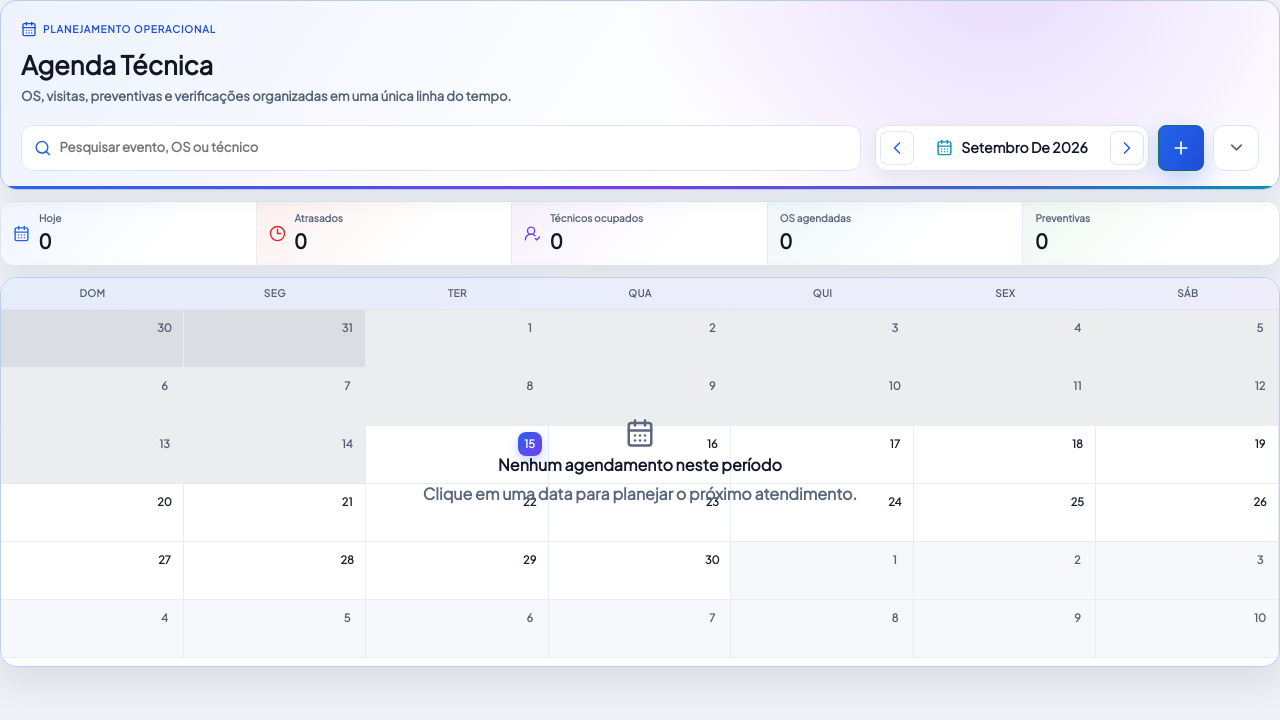
Test: TechnicalCalendarPage (fluxos) › navega entre meses e recarrega o intervalo
Click the button named "Próximo mês" at [1127, 148], box [1110, 131, 1144, 165]
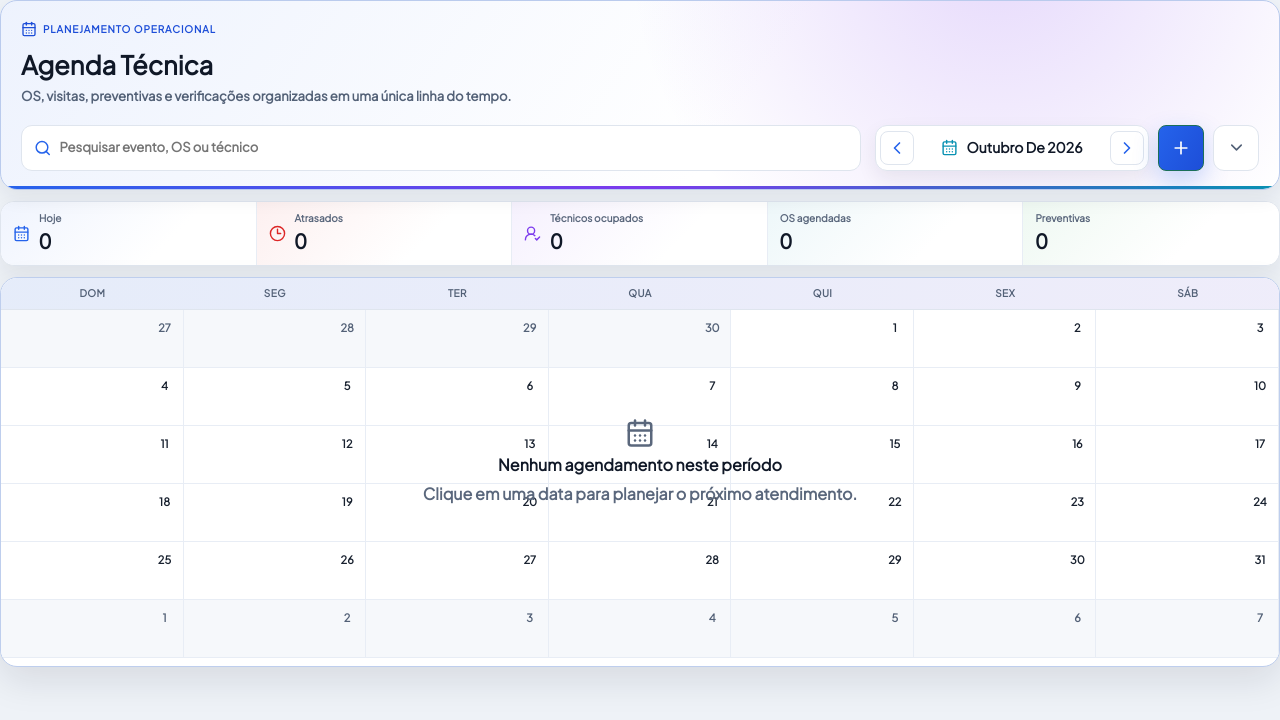
Now the text "outubro de 2026" is shown, box [966, 137, 1083, 158]
Click the button named "Mês anterior" at [897, 148], box [880, 131, 914, 165]
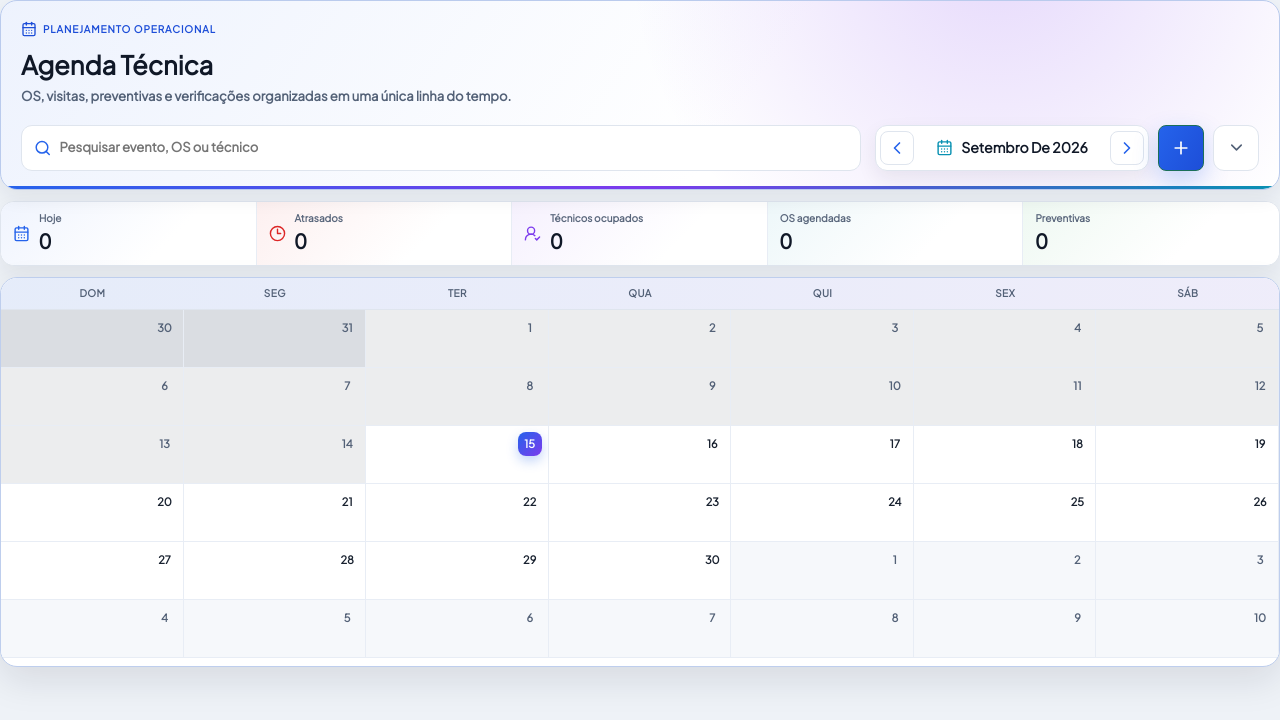
Click the button named "Mês anterior" at [897, 148], box [880, 131, 914, 165]
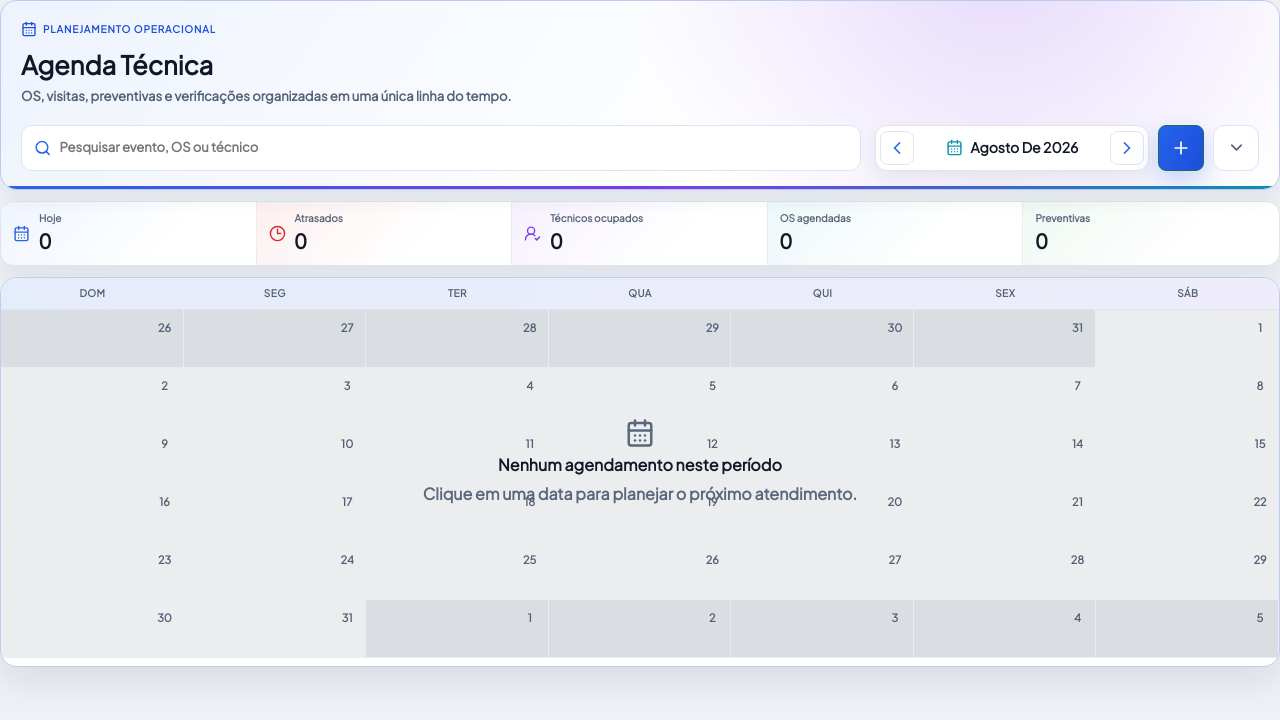
Now the text "agosto de 2026" is shown, box [970, 137, 1078, 158]
